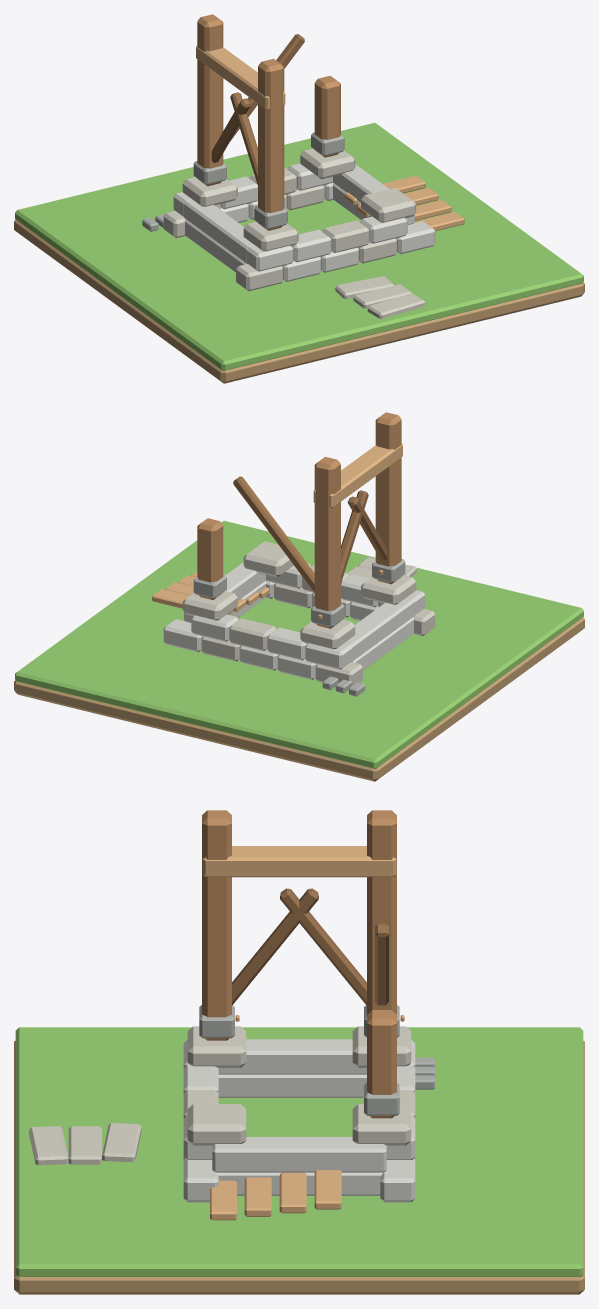
File: tower_l01_construction.glb
3 renders of one model, top to bottom at view 1: azimuth 30°, elevation 25°; view 2: azimuth 150°, elevation 25°; view 3: azimuth 270°, elevation 25°, orthographic. The views are drawn at different scales.
Parts seen in each view (by area): view 1: tower_l01_grass_tile, tower_l01_earth_tile, upright_-0.58_-0.52, upright_-0.58_0.52, plinth_return_1_-0.73, temporary_crossbar, upright_0.58_0.52, stone_foot_0.58_-0.52, stone_foot_0.58_0.52, stone_foot_-0.58_0.52, stone_foot_-0.58_-0.52, plinth_return_1_0.73 (+26 smaller); view 2: tower_l01_grass_tile, tower_l01_earth_tile, upright_-0.58_0.52, upright_-0.58_-0.52, plinth_return_1_-0.73, temporary_crossbar, upright_0.58_0.52, rear_brace_0.52, stone_foot_0.58_-0.52, stone_foot_-0.58_-0.52, stone_foot_0.58_0.52, stone_foot_-0.58_0.52 (+20 smaller); view 3: tower_l01_grass_tile, tower_l01_earth_tile, upright_-0.58_-0.52, plinth_return_1_0.73, temporary_crossbar, upright_-0.58_0.52, plinth_return_1_-0.73, plinth_return_0_-0.73, upright_0.58_0.52, stone_foot_0.58_-0.52, stone_foot_-0.58_-0.52, side_brace_-0.58_1 (+17 smaller).
Part boxes in pixels (x1,y1,x2,y2): tower_l01_grass_tile: (15, 122, 583, 370); tower_l01_earth_tile: (14, 219, 584, 383); upright_-0.58_-0.52: (258, 58, 284, 230); upright_-0.58_0.52: (197, 14, 223, 186); plinth_return_1_-0.73: (184, 199, 254, 263); temporary_crossbar: (196, 45, 285, 109); upright_0.58_0.52: (314, 75, 340, 157); stone_foot_0.58_-0.52: (361, 188, 416, 222); stone_foot_0.58_0.52: (300, 148, 355, 179); stone_foot_-0.58_0.52: (182, 177, 237, 206); stone_foot_-0.58_-0.52: (243, 221, 298, 251); plinth_return_1_0.73: (333, 164, 414, 224); tower_l01_grass_tile: (15, 520, 583, 768); tower_l01_earth_tile: (14, 617, 584, 781); upright_-0.58_0.52: (314, 456, 340, 628); upright_-0.58_-0.52: (375, 412, 401, 584); plinth_return_1_-0.73: (344, 597, 414, 661); temporary_crossbar: (313, 443, 402, 507); upright_0.58_0.52: (197, 518, 223, 599); rear_brace_0.52: (233, 476, 314, 592); stone_foot_0.58_-0.52: (243, 541, 293, 577); stone_foot_-0.58_-0.52: (361, 575, 416, 604); stone_foot_0.58_0.52: (182, 591, 237, 620); stone_foot_-0.58_0.52: (300, 619, 355, 649); tower_l01_grass_tile: (15, 1027, 583, 1276); tower_l01_earth_tile: (14, 1041, 584, 1294); upright_-0.58_-0.52: (202, 810, 231, 1040); plinth_return_1_0.73: (212, 1137, 386, 1172); temporary_crossbar: (202, 846, 396, 877); upright_-0.58_0.52: (367, 810, 396, 1014); plinth_return_1_-0.73: (218, 1039, 366, 1074); plinth_return_0_-0.73: (218, 1074, 366, 1097); upright_0.58_0.52: (367, 1010, 396, 1118); stone_foot_0.58_-0.52: (187, 1104, 246, 1145); stone_foot_-0.58_-0.52: (187, 1026, 246, 1067); side_brace_-0.58_1: (280, 888, 366, 1005).
Bounding box in the file's own units: 3.6 × 2.25 × 3.6.
